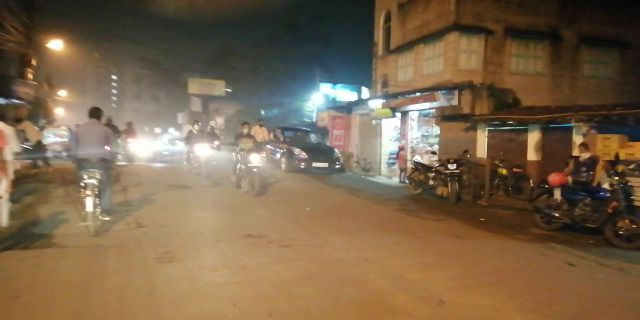Car: (277, 129, 345, 175)
Cycle: (64, 103, 112, 244)
Motorbike: (227, 121, 271, 195)
